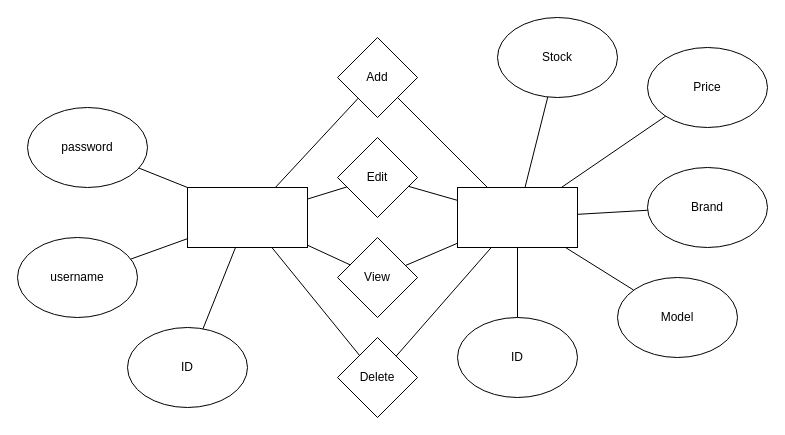
Image size: 785x435. Some labels were removed from this diagram. Here are the shapes that lost their labels. From the top down, the box of each, then its label:
(186, 186, 308, 248): Users
(456, 186, 578, 248): Computers
